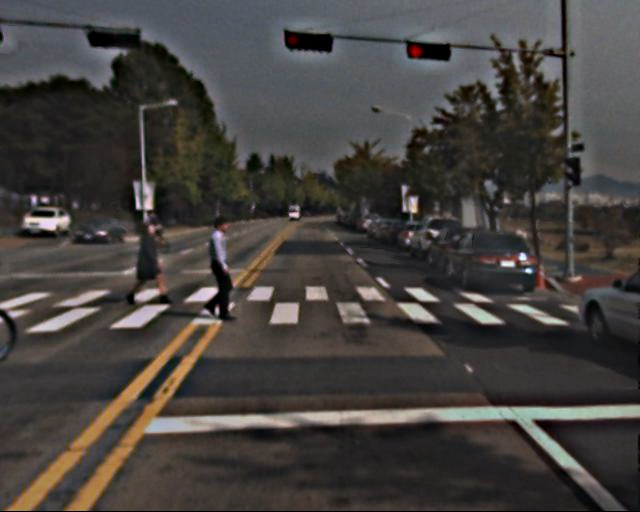person: (197, 217, 242, 322), (134, 219, 171, 309)
